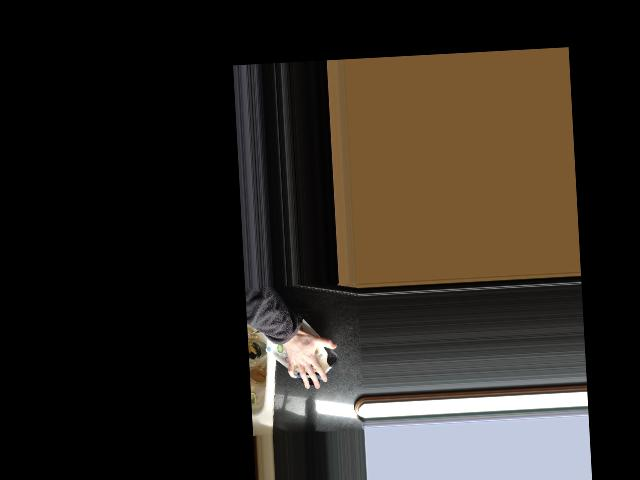cheese: (261, 312, 340, 391)
